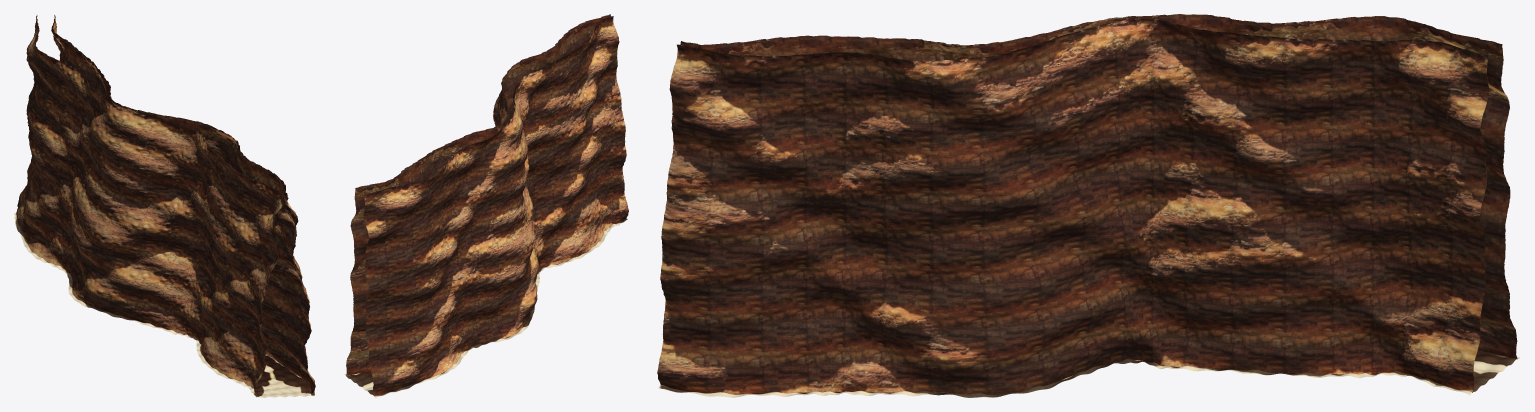
File: slot-canyon.glb
3 views of the same model, side by side, from view 1: azimuth 30°, elevation 25°; view 2: azimuth 150°, elevation 25°; view 3: azimuth 270°, elevation 25° (orthographic). The views are drawn at different scales.
Visible parts, largest first — view 1: wall-left, wall-right, floor; view 2: wall-left, wall-right, floor; view 3: wall-right, wall-left, floor.
Boxes of the visible parts, <box> form: wall-left: <box>16,15,283,395</box>; wall-right: <box>51,15,315,394</box>; floor: <box>14,213,314,397</box>; wall-left: <box>363,16,628,395</box>; wall-right: <box>346,14,610,375</box>; floor: <box>344,218,627,397</box>; wall-right: <box>657,19,1489,394</box>; wall-left: <box>680,14,1517,359</box>; floor: <box>658,350,1519,397</box>.
Bounding box in the file's own units: 7.46 × 15.07 × 35.95.
3 materials, 3 textured.
